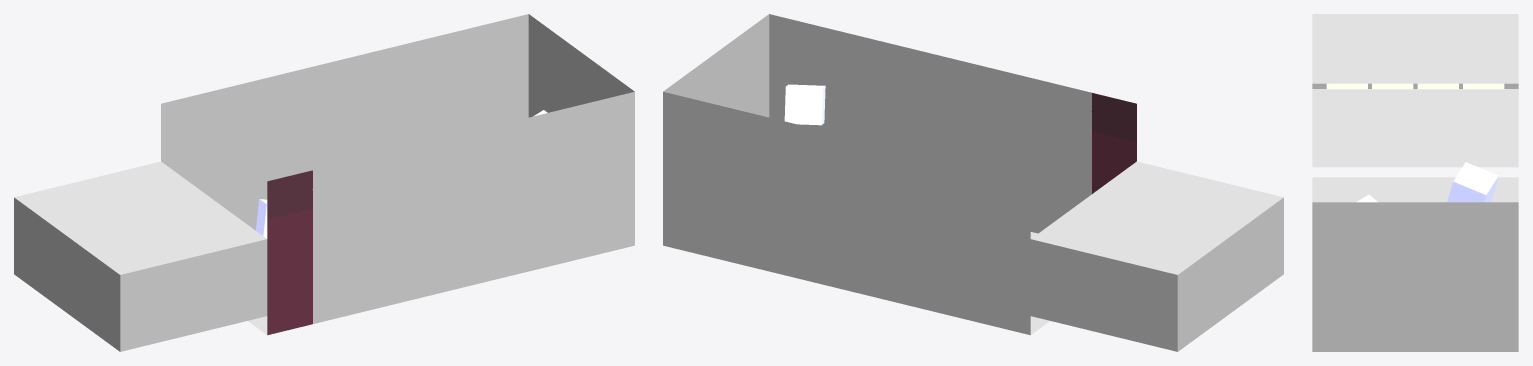
Rendered from Garden.fbx.
The picture shows the model from 3 angles, left to right: view 1: azimuth 30°, elevation 25°; view 2: azimuth 150°, elevation 25°; view 3: azimuth 270°, elevation 25°; orthographic projection. The views are drawn at different scales.
Parts seen in each view (by area): view 1: Environment; view 2: Environment, Garden Lights; view 3: Environment, Garden Lights, Doors.
Boxes of the visible parts, box(x1,y1,x2,y2) form: Environment: box(14, 14, 634, 351); Environment: box(663, 14, 1283, 351); Garden Lights: box(784, 84, 825, 125); Environment: box(1312, 14, 1518, 351); Garden Lights: box(1356, 162, 1498, 202); Doors: box(1326, 83, 1504, 89).
Bounding box in the file's own units: 1400 × 400 × 500.
